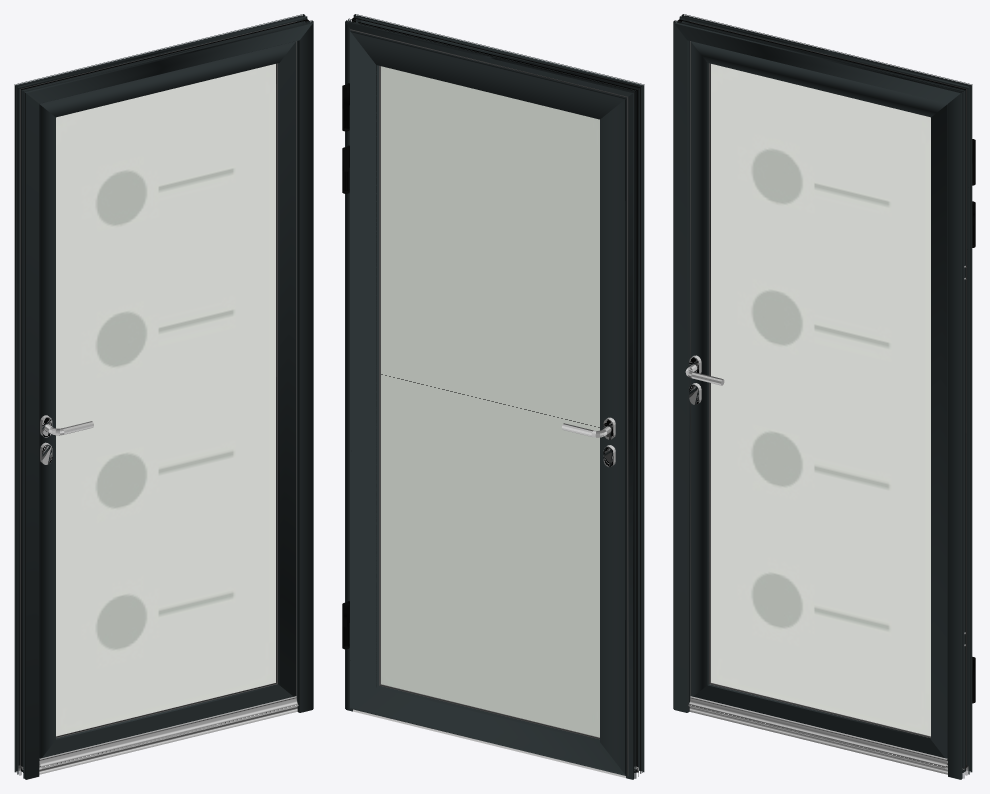
The picture shows the model from 3 angles, left to right: view 1: azimuth 30°, elevation 25°; view 2: azimuth 150°, elevation 25°; view 3: azimuth 330°, elevation 25°; orthographic projection.
Parts seen in each view (by area): view 1: ouvrant, 30_architect; view 2: ouvrant, 30_architect; view 3: ouvrant, 30_architect.
Boxes of the visible parts, bbox=[...] form: ouvrant: bbox=[20, 21, 298, 768]; 30_architect: bbox=[14, 14, 313, 779]; ouvrant: bbox=[342, 29, 628, 776]; 30_architect: bbox=[342, 14, 644, 779]; ouvrant: bbox=[688, 21, 975, 768]; 30_architect: bbox=[673, 14, 975, 779].
Bounding box in the file's own units: 96 × 218 × 20.21.
Materials: 1 (1 with a texture image).
